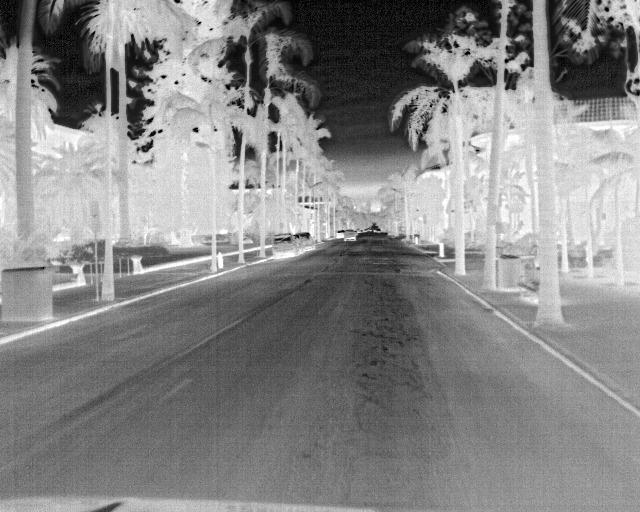car: (271, 235, 298, 258), (298, 232, 316, 250), (292, 233, 306, 252), (344, 228, 358, 241), (334, 228, 347, 240)
